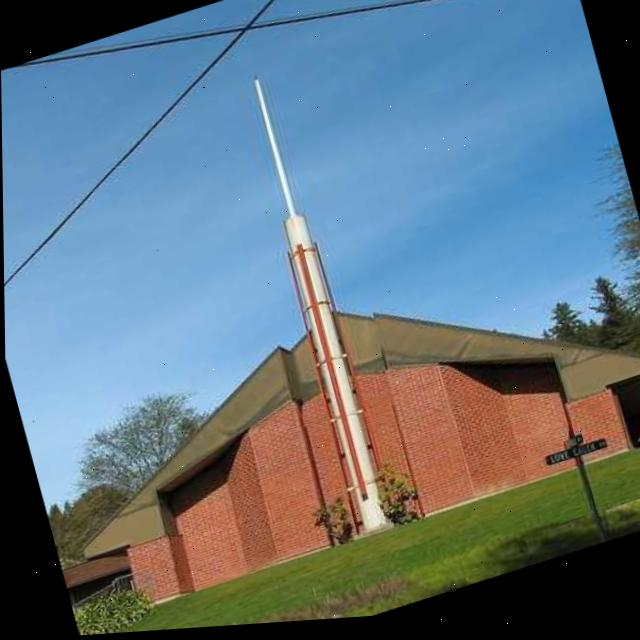missile: (239, 63, 392, 548)
